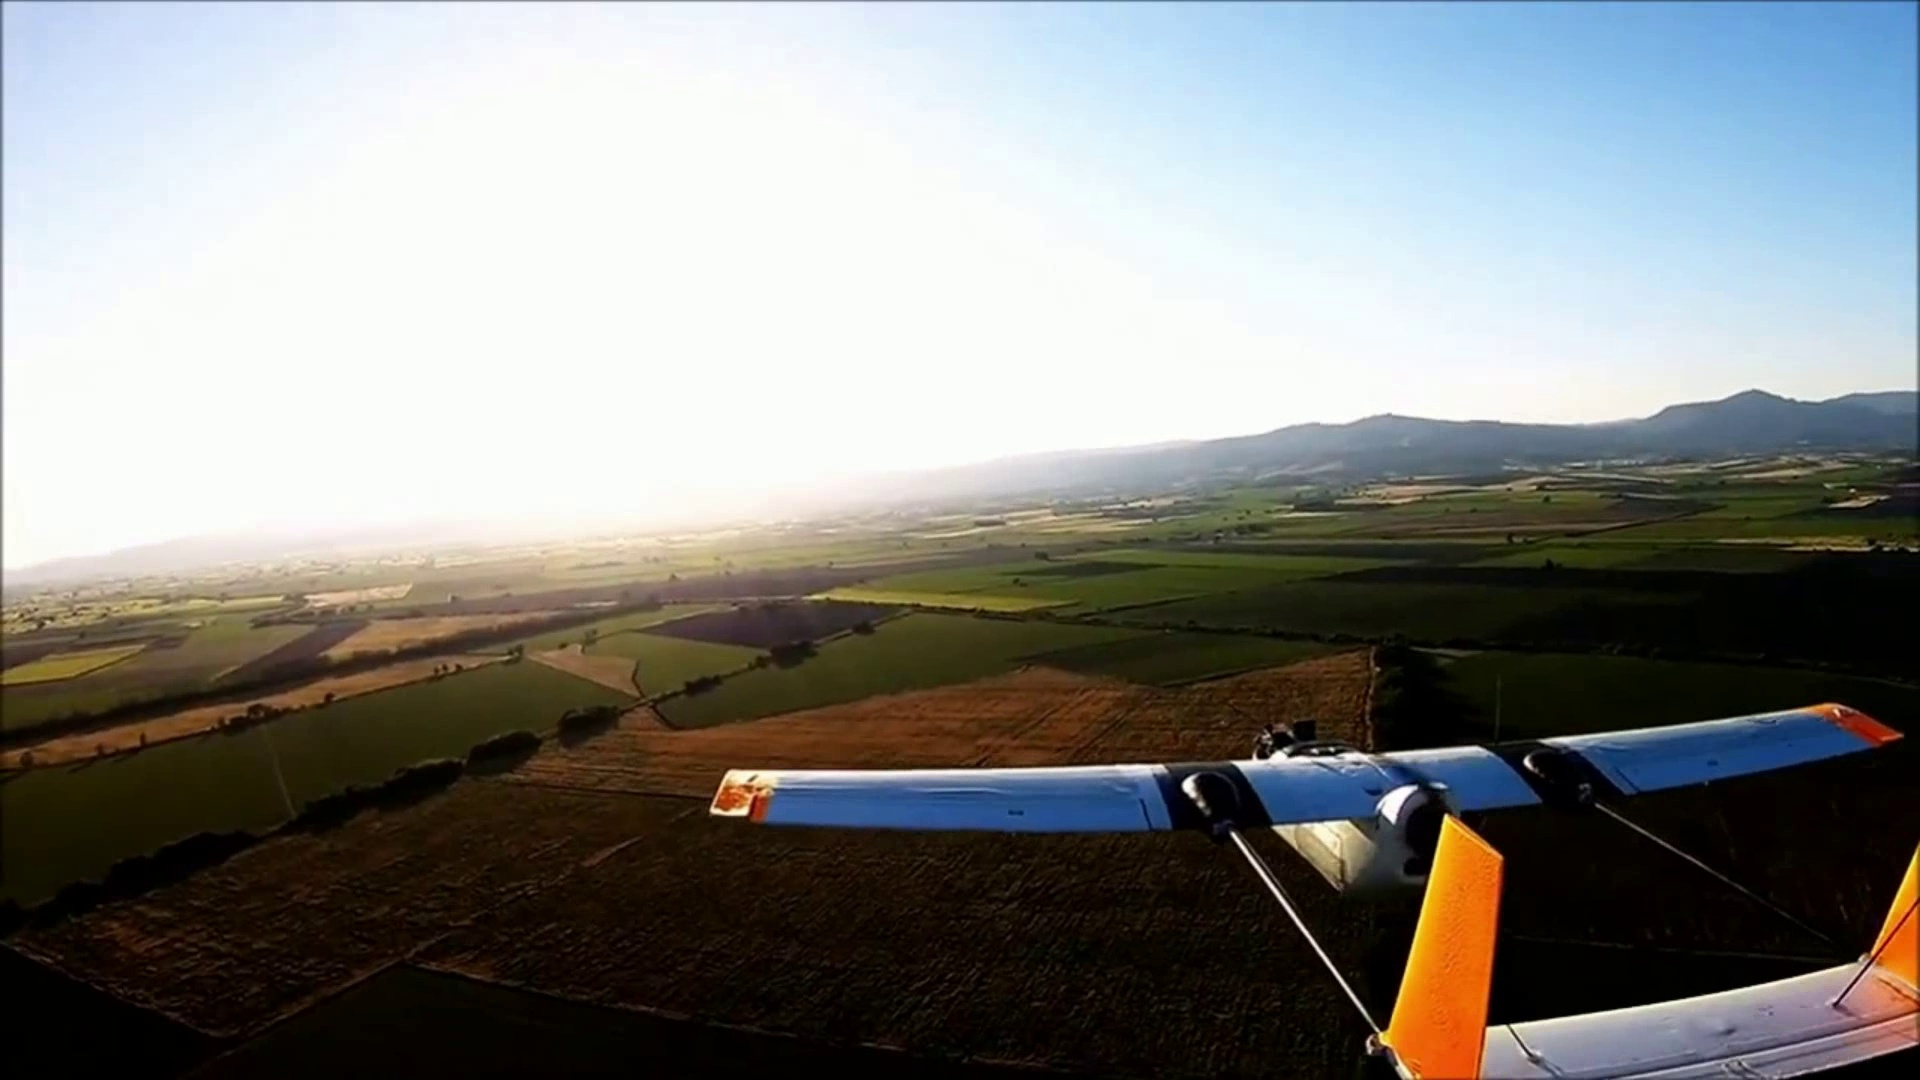airplane: (706, 702, 1915, 1072)
